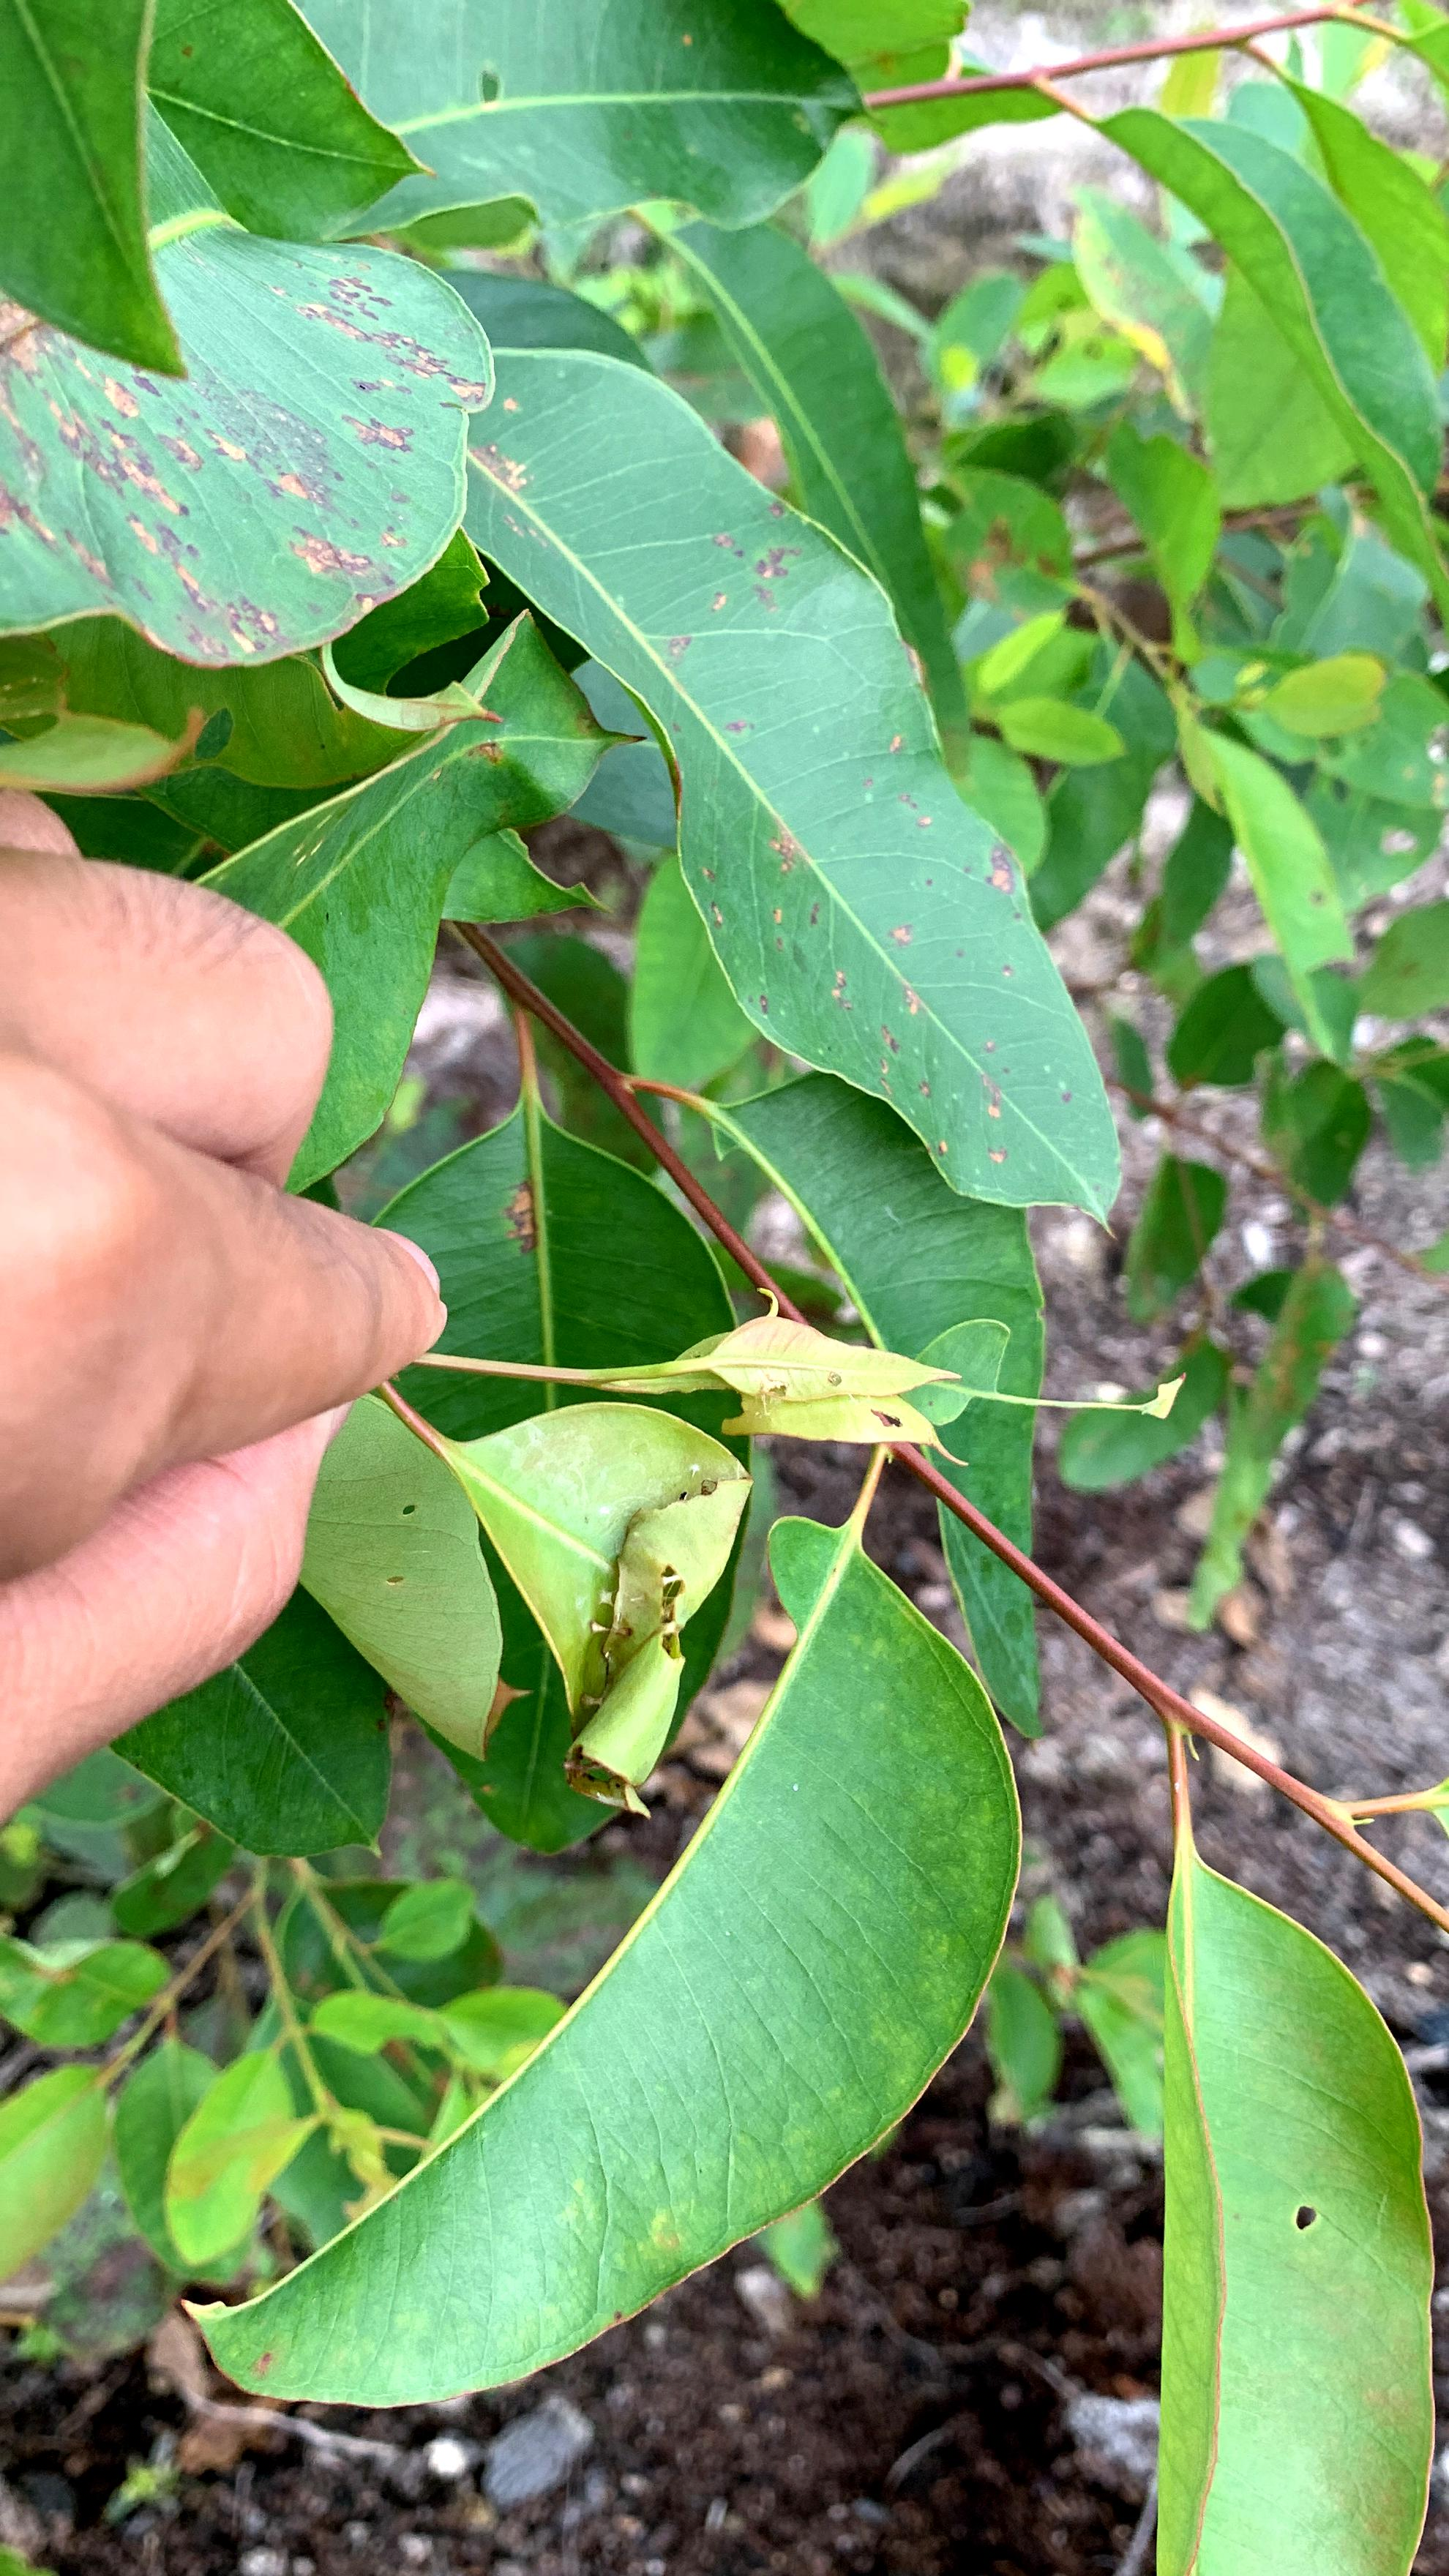Leaf Roller - Leaf: (465, 1253, 1004, 1840)
